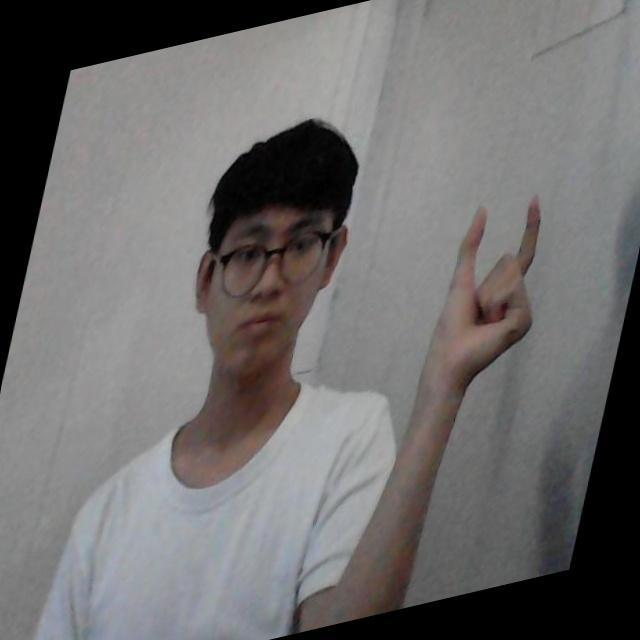U: (437, 191, 548, 324)
